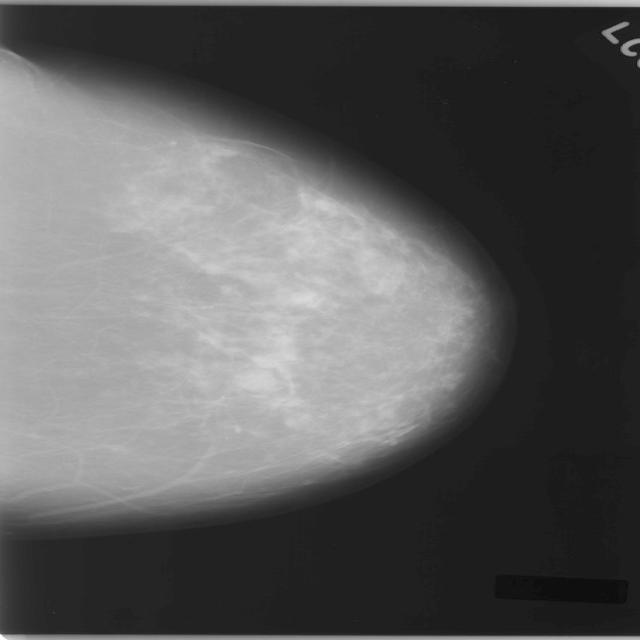tumour: (232, 369, 281, 391)
